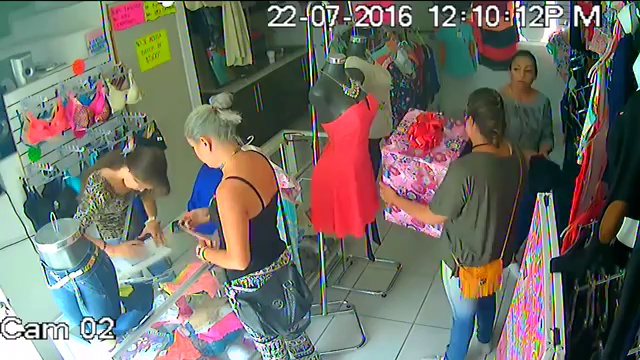face: (507, 57, 535, 90)
